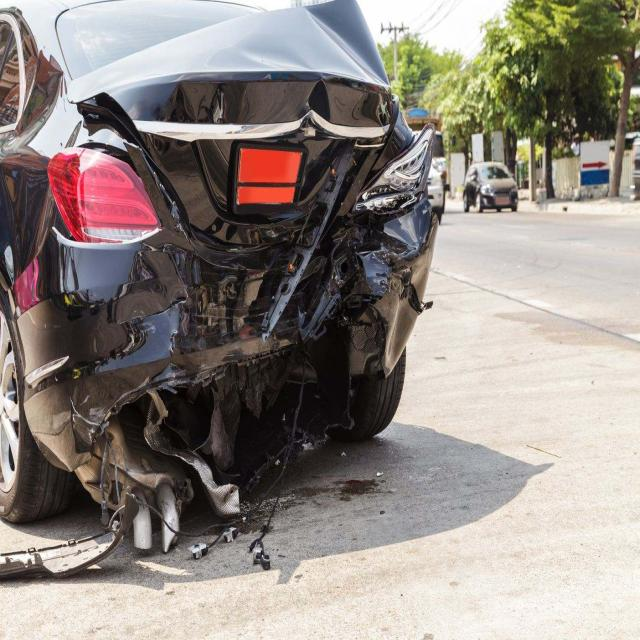Accident: (0, 0, 443, 583)
